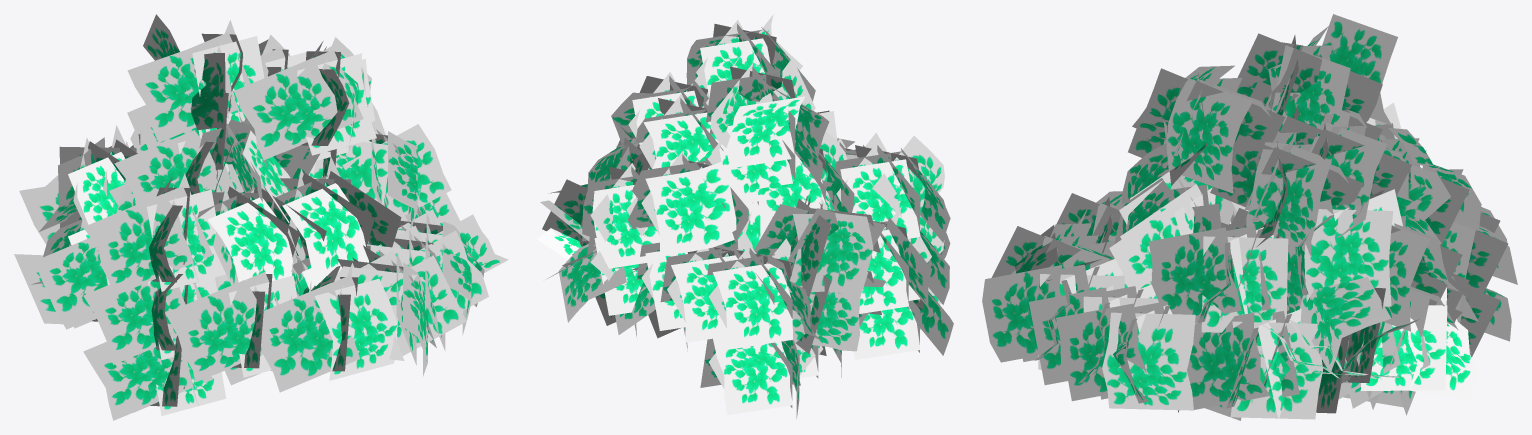
File: Top_Tree.fbx
3 renders of one model, left to right at view 1: azimuth 30°, elevation 25°; view 2: azimuth 150°, elevation 25°; view 3: azimuth 270°, elevation 25°, orthographic. The views are drawn at different scales.
Visible parts, largest first — view 1: polySurface127; view 2: polySurface127; view 3: polySurface127.
Part boxes in pixels (x1,y1,x2,y2): polySurface127: (14,14,508,420); polySurface127: (537,14,953,418); polySurface127: (982,14,1517,420).
Size of the model in its own units: 48.41 by 37.36 by 50.72.
